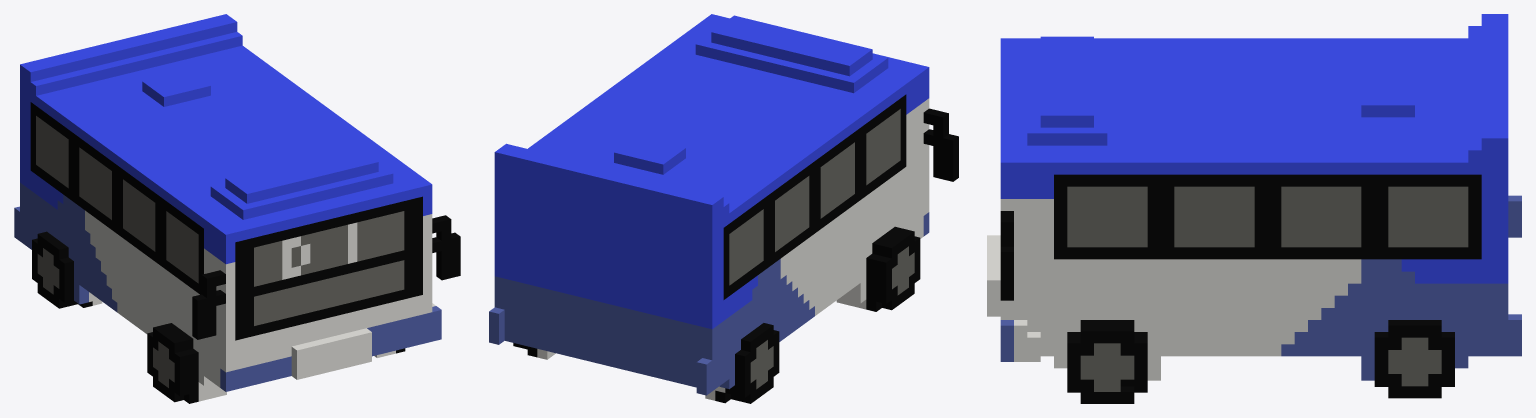
The model's file is bus1-0.obj.
The picture shows the model from 3 angles, left to right: view 1: azimuth 30°, elevation 25°; view 2: azimuth 150°, elevation 25°; view 3: azimuth 270°, elevation 25°; orthographic projection. The views are drawn at different scales.
Size of the model in its own units: 2.8 by 2.1 by 4.
1 material, 1 textured.
